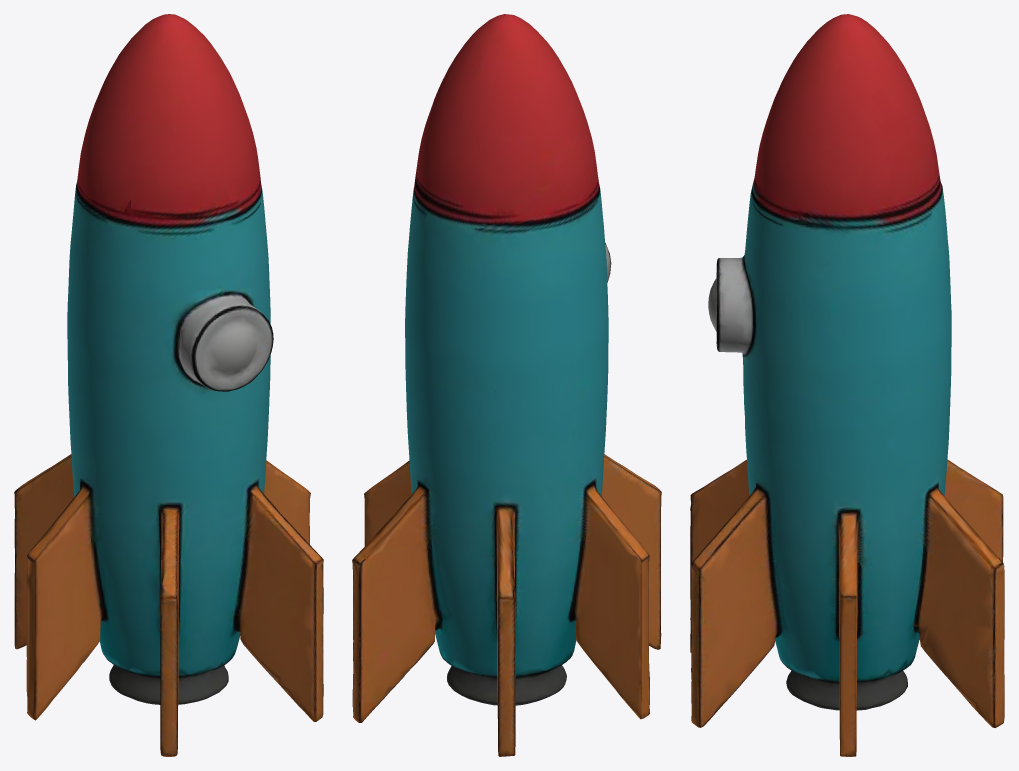
The model's file is rocket.glb.
3 views of the same model, side by side, from view 1: azimuth 30°, elevation 25°; view 2: azimuth 150°, elevation 25°; view 3: azimuth 270°, elevation 25° (orthographic).
Parts seen in each view (by area): view 1: input; view 2: input; view 3: input.
Boxes of the visible parts, box(x1,y1,x2,y2) form: input: box(14, 14, 323, 756); input: box(352, 14, 661, 756); input: box(690, 14, 1004, 756).
Bounding box in the file's own units: 0.2174 × 0.5 × 0.2114.
Materials: 1 (1 with a texture image).
